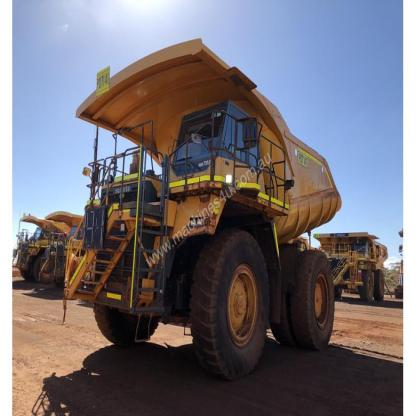dump_truck: (73, 35, 348, 373)
